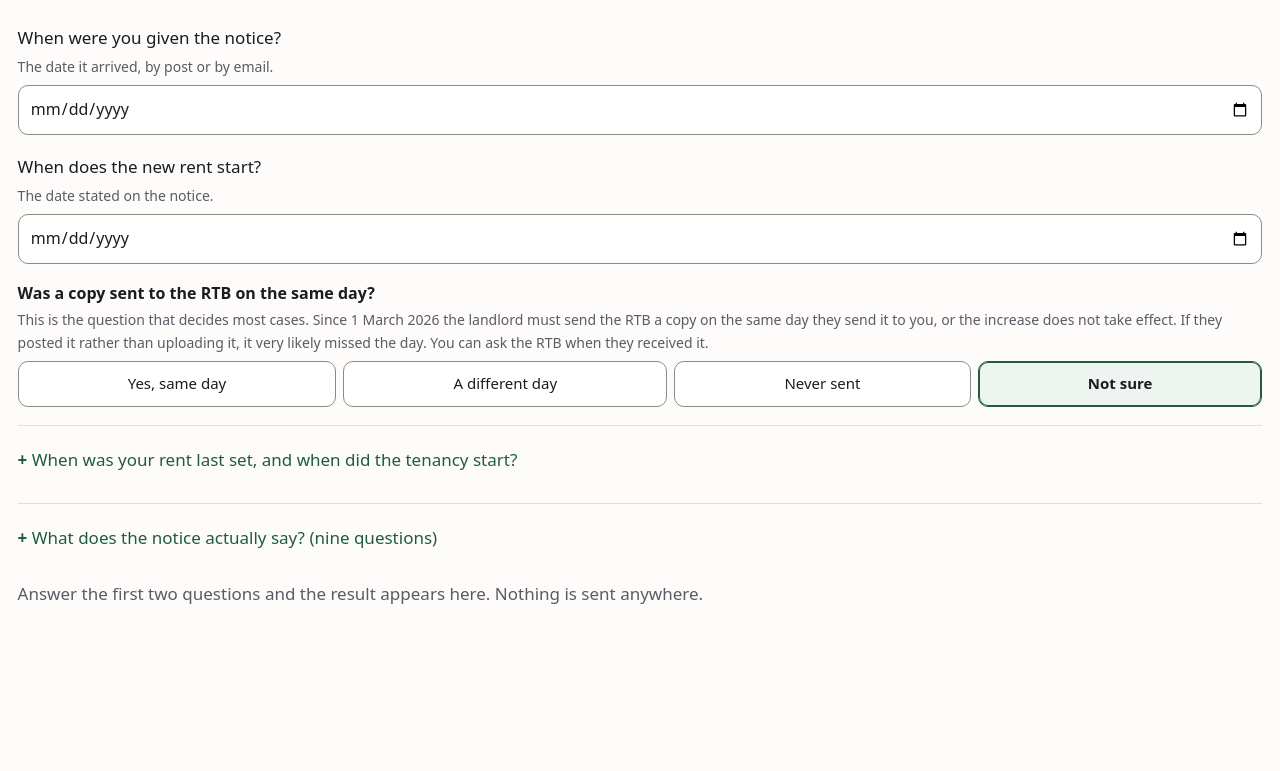
Test case: the notice check › names the offence only when the notice actually fails
The width and height of the screenshot is (1280, 771).
Type "2026-06-01" into the date field labelled "When were you given the notice?". click: (640, 110)
box: [18,85,1262,135]
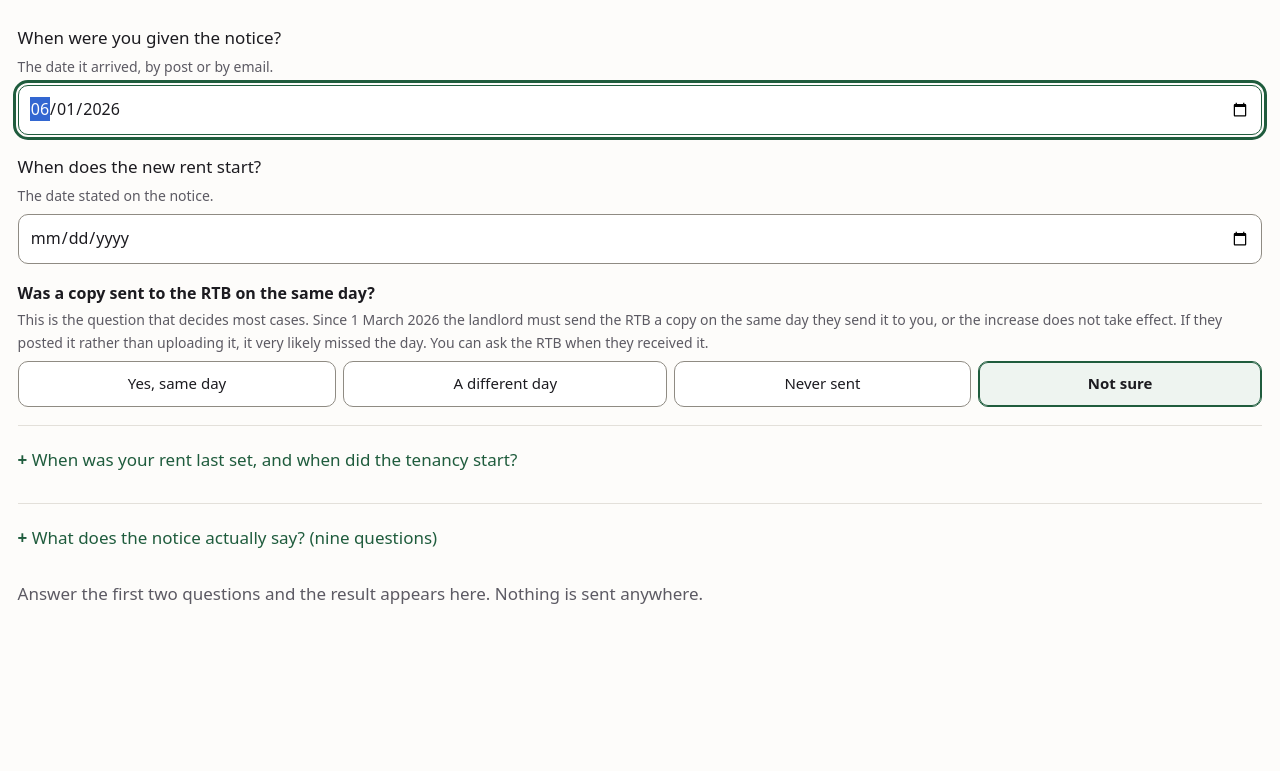
Type "2026-09-01" into the date field labelled "When does the new rent start?". click: (640, 239)
box: [18,214,1262,264]
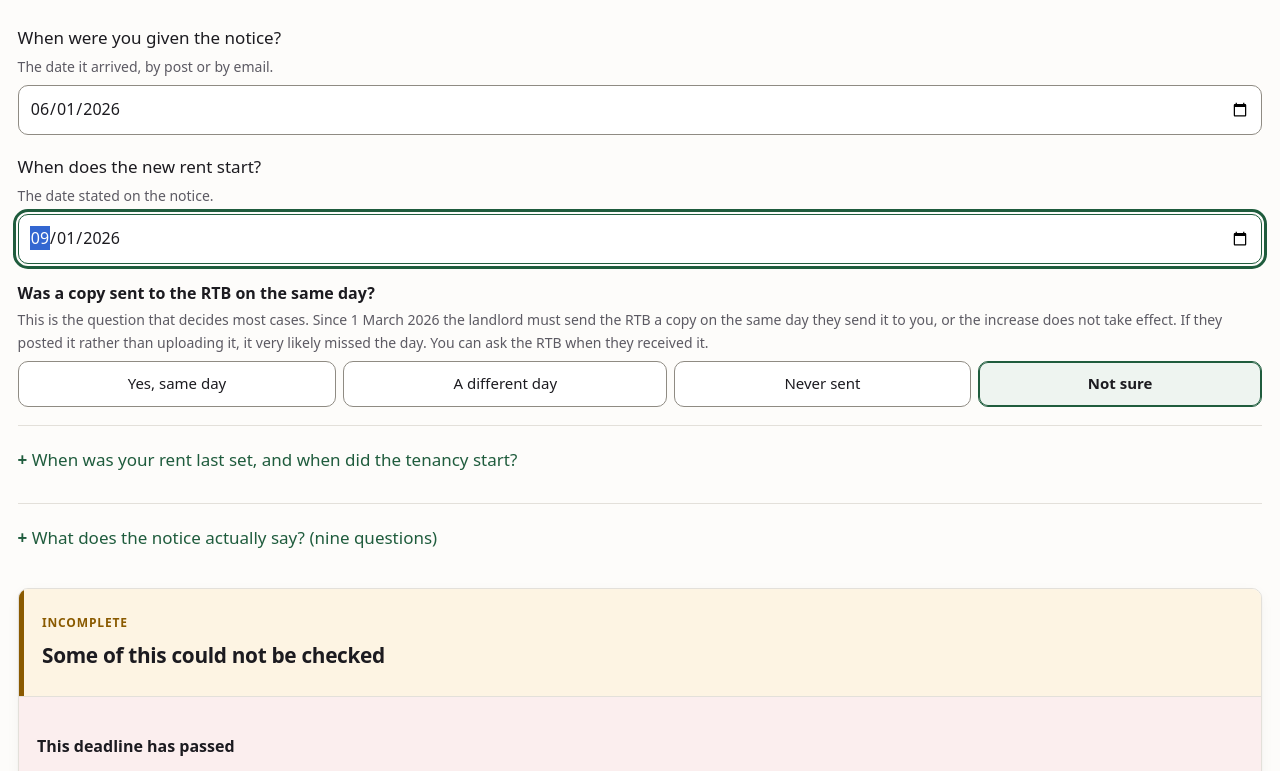
Expected: the text "criminal offence" is not shown
Click the radio button labelled "Never sent". click: (822, 384)
box: [674,361,971,407]
(page scrolled)
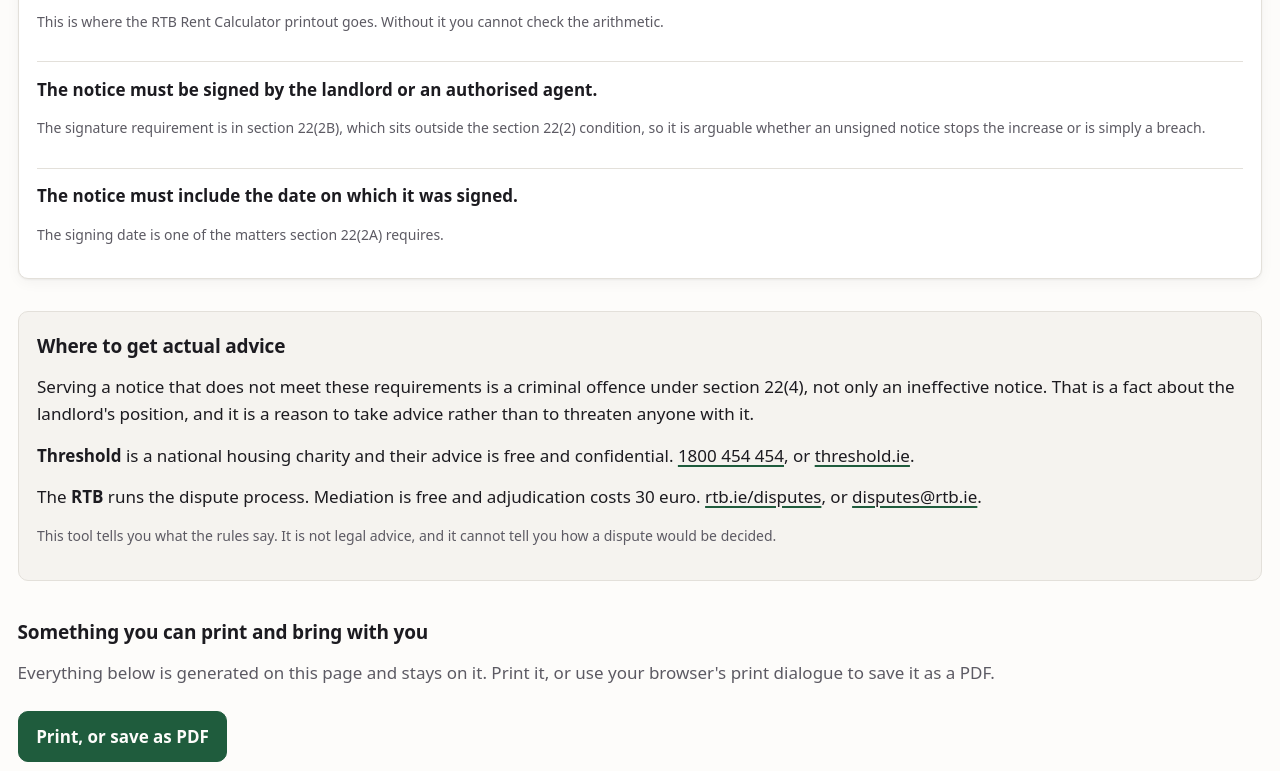
Expected: the text "criminal offence" is shown, [37,375,1234,425]
